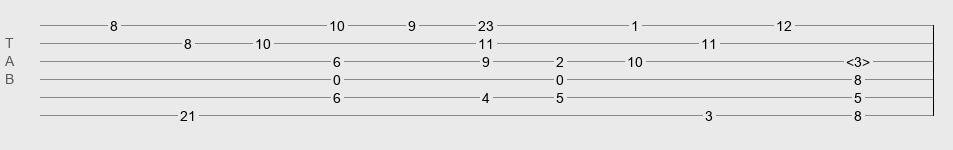0: (333, 72, 341, 82), (556, 72, 564, 82)
1: (631, 18, 639, 28)
10: (255, 36, 271, 46), (329, 18, 345, 28), (627, 54, 643, 64)
11: (478, 36, 494, 46), (701, 36, 717, 46)
12: (776, 18, 792, 28)
2: (556, 54, 564, 64)
21: (180, 108, 196, 118)
23: (478, 18, 494, 28)
3: (705, 108, 713, 118)
4: (482, 90, 490, 100)
5: (556, 90, 564, 100), (854, 90, 862, 100)
6: (333, 54, 341, 64), (333, 90, 341, 100)
8: (110, 18, 118, 28), (184, 36, 192, 46), (854, 108, 862, 118), (854, 72, 862, 82)
9: (408, 18, 416, 28), (482, 54, 490, 64)
harmonic: (846, 54, 870, 64)
